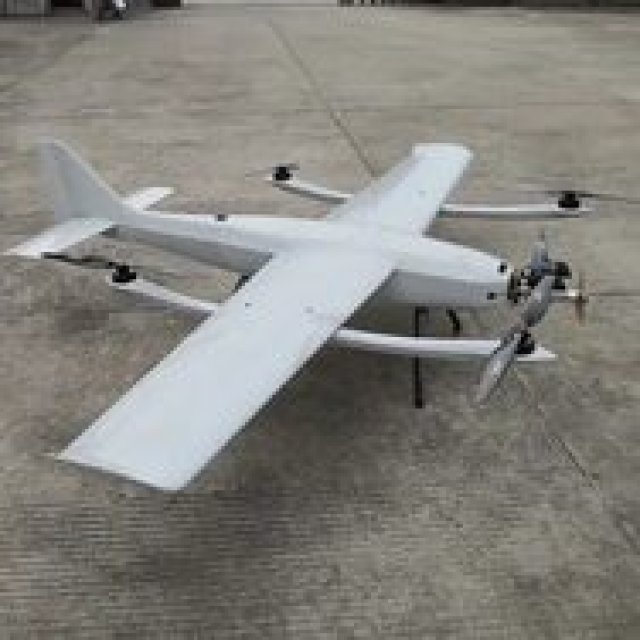military drone: (0, 138, 594, 494)
